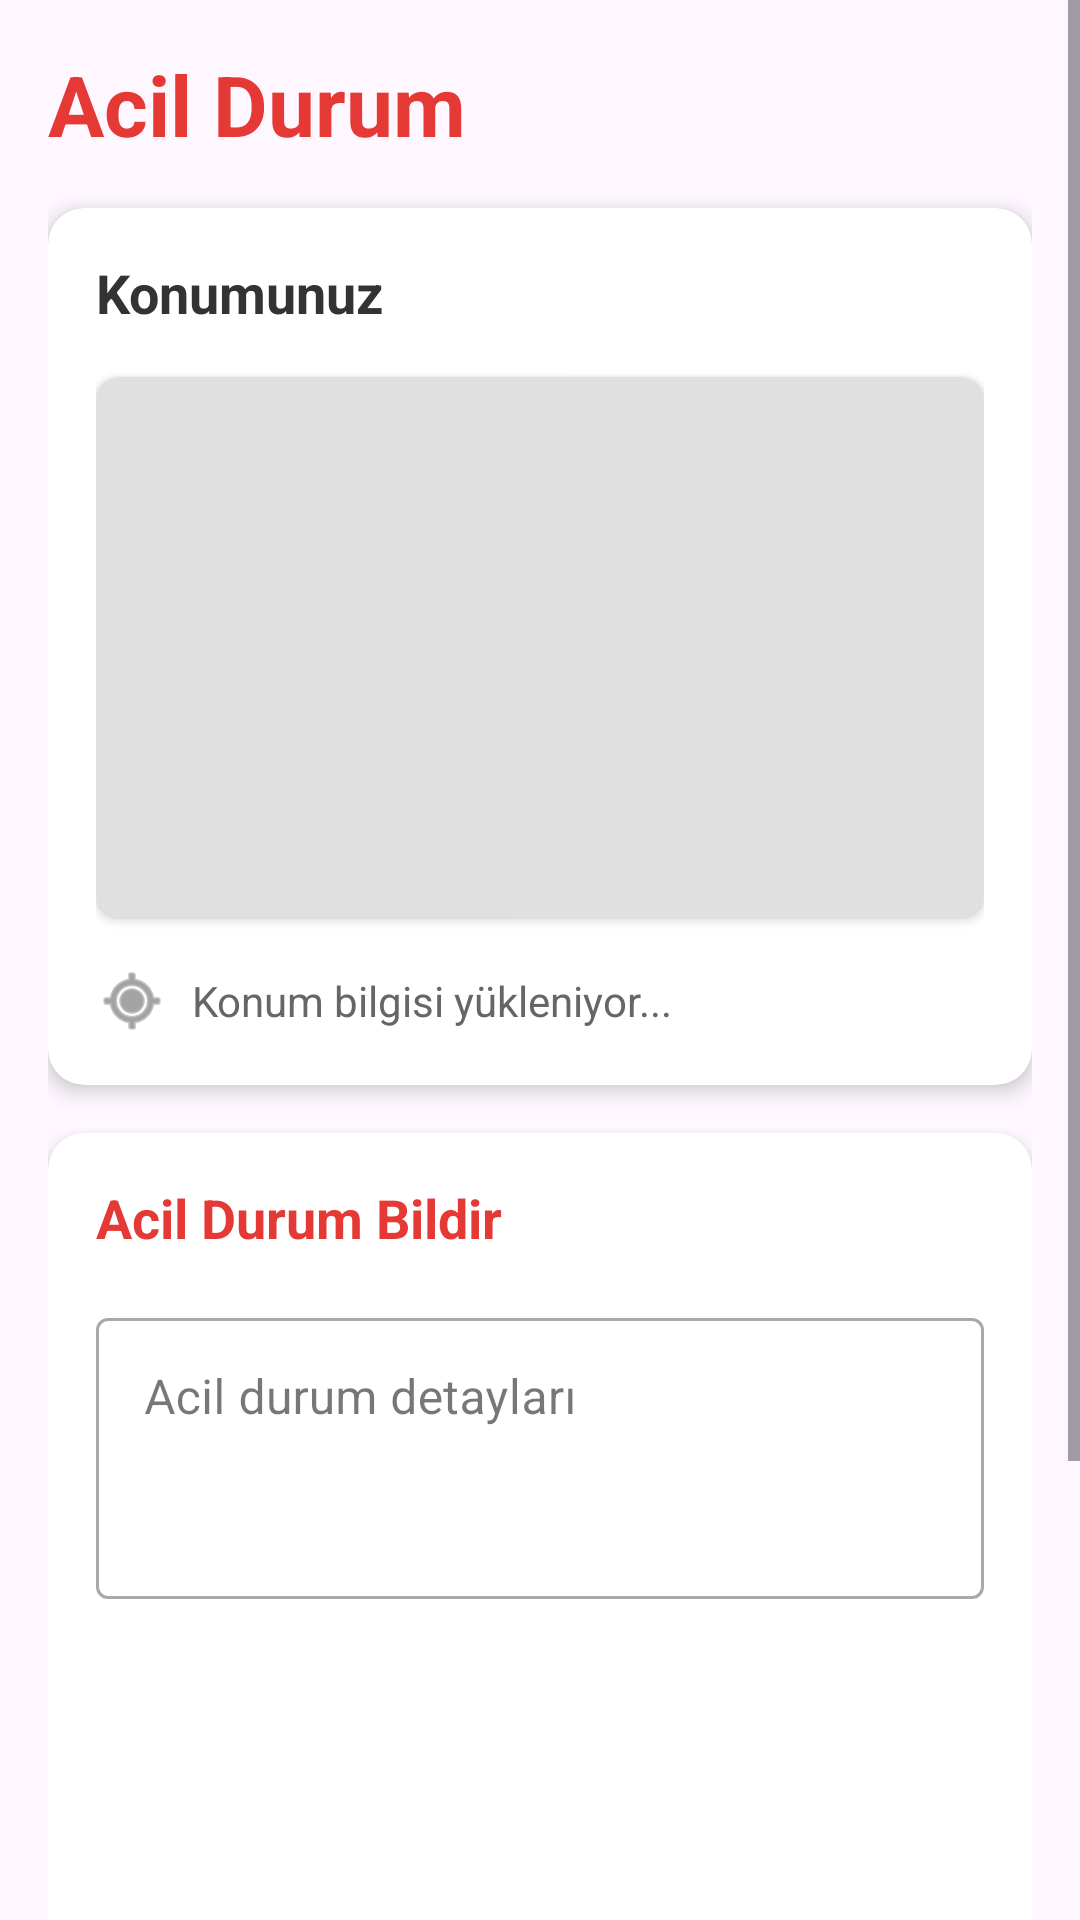

Point at icon controls on the screen. Image size 1080*1920, points as (x=x, y=y).
mylocation: (x=132, y=1001)
